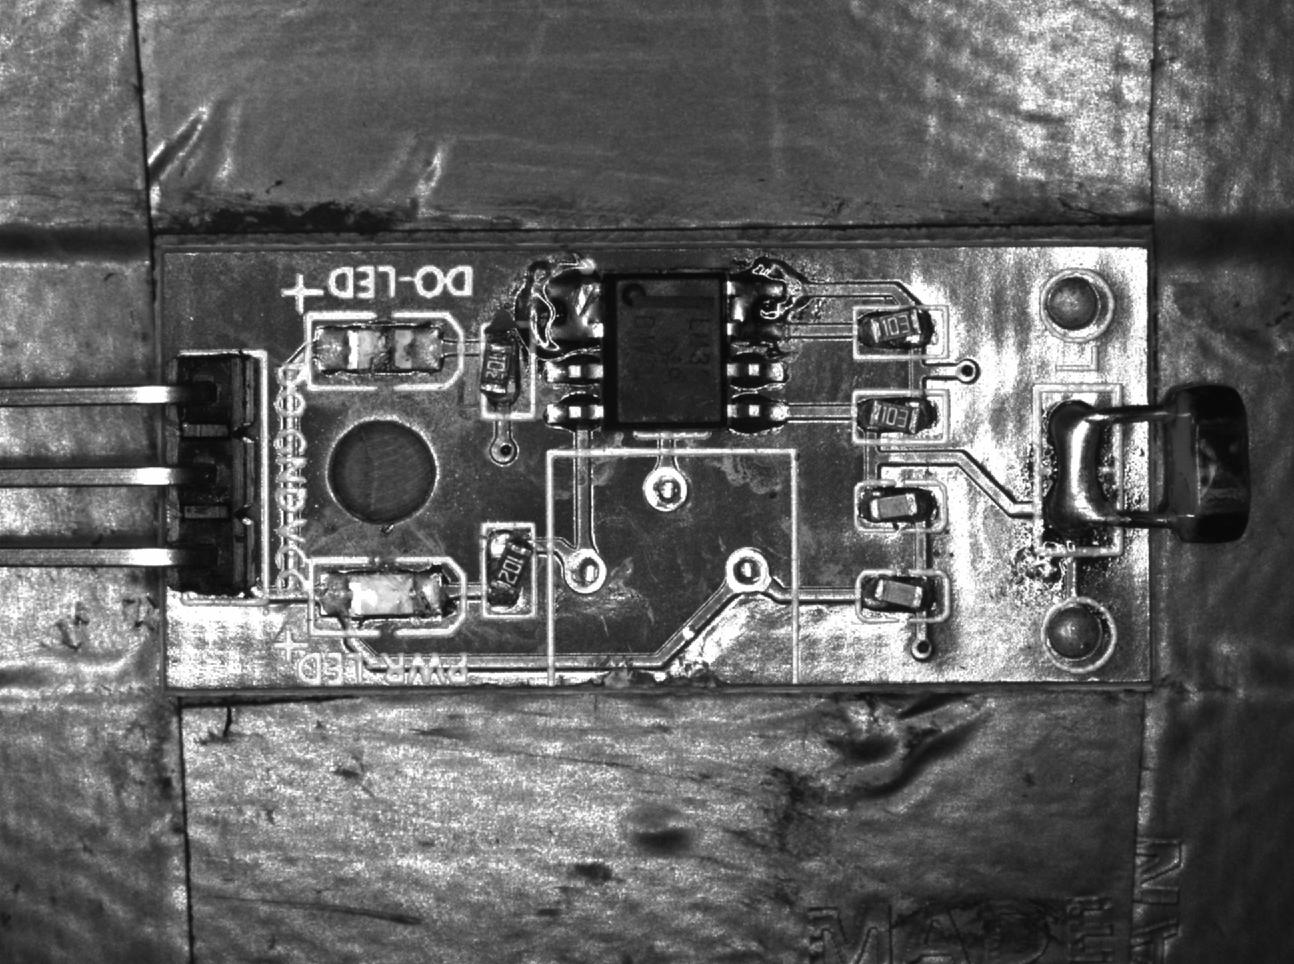bridge: (1034, 386, 1119, 550), (719, 271, 789, 348), (536, 271, 605, 347)
lifted: (850, 389, 954, 443), (855, 306, 950, 360), (483, 523, 537, 617), (856, 572, 953, 623), (482, 325, 533, 410)
ok: (858, 483, 949, 535)
